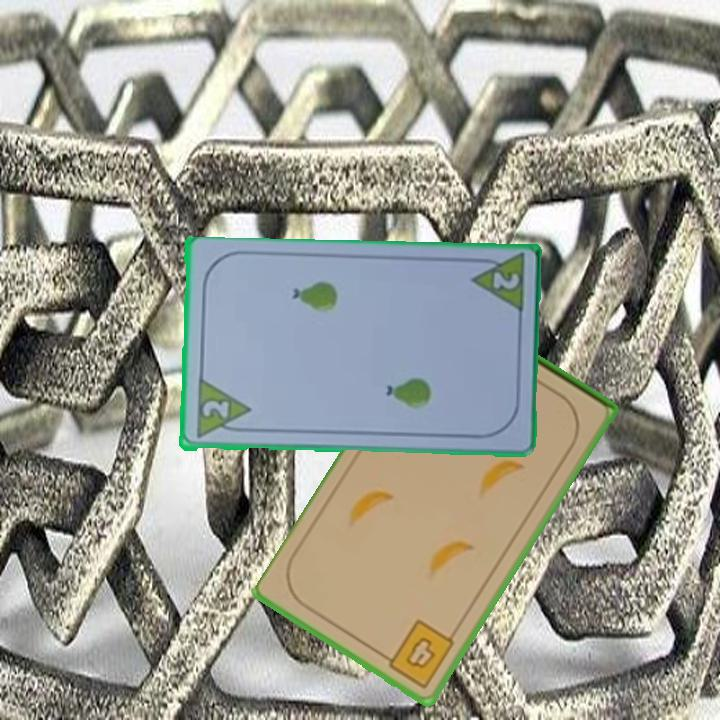2p: (192, 378, 252, 442), (489, 268, 522, 293)
4b: (377, 615, 458, 692)
